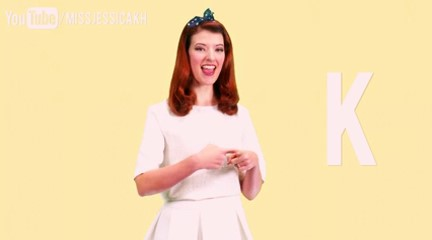K: (189, 138, 257, 176)
